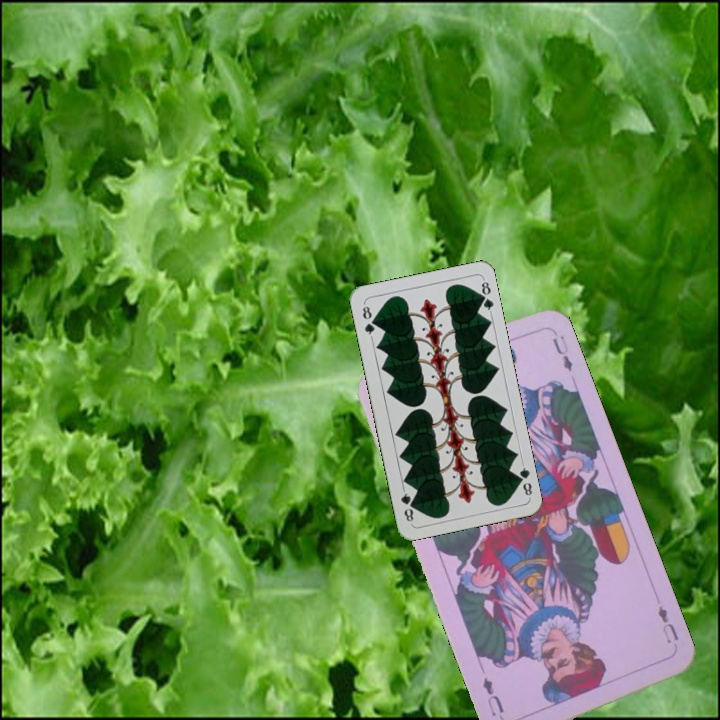EU: (653, 601, 681, 646)
G8: (512, 459, 535, 498), (358, 300, 377, 340)
